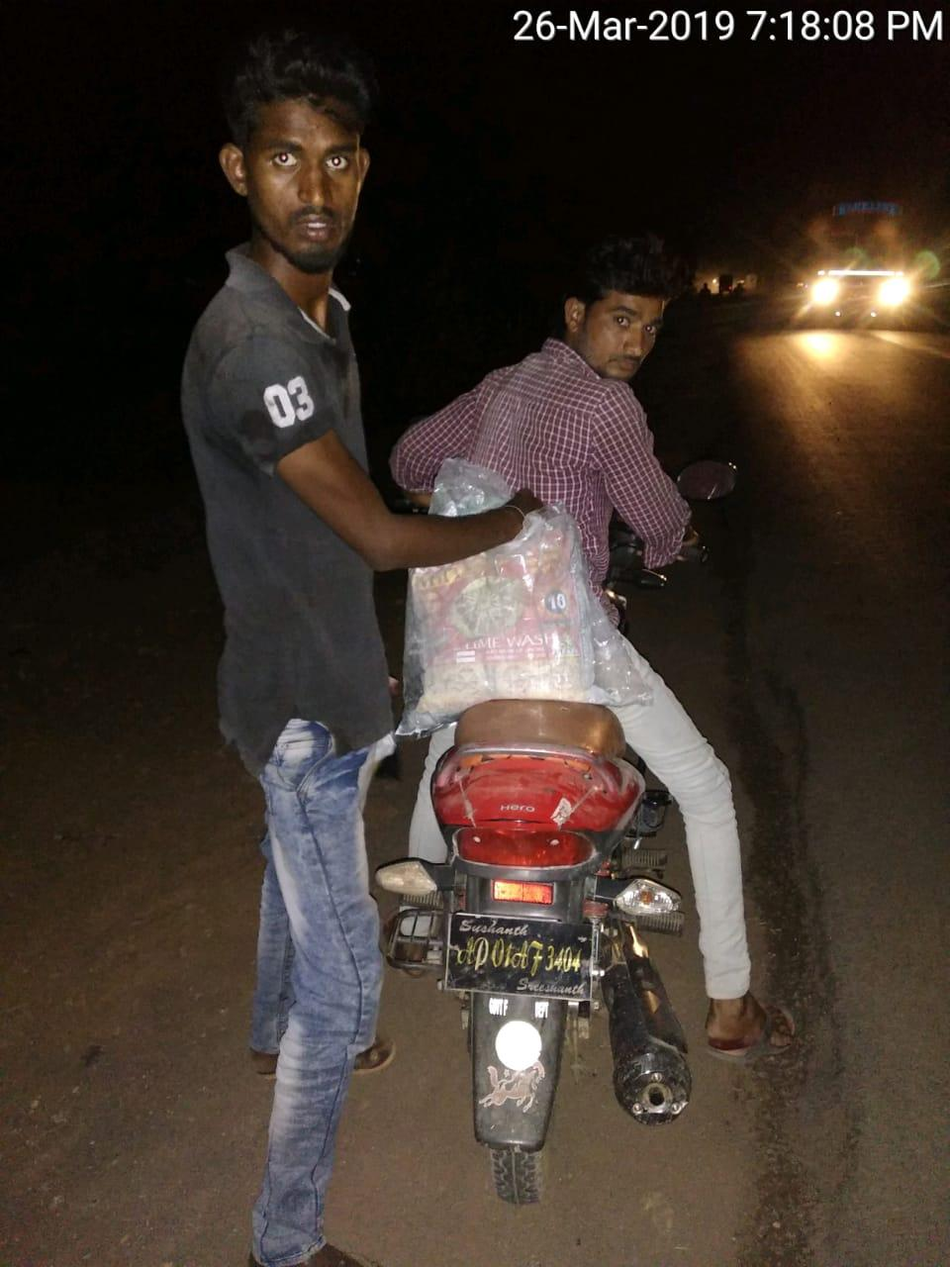plate: (426, 902, 622, 1024)
